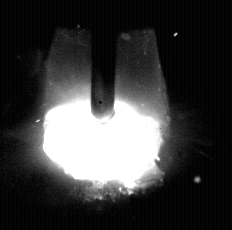arame: (91, 0, 116, 118)
poca: (42, 0, 163, 230)
